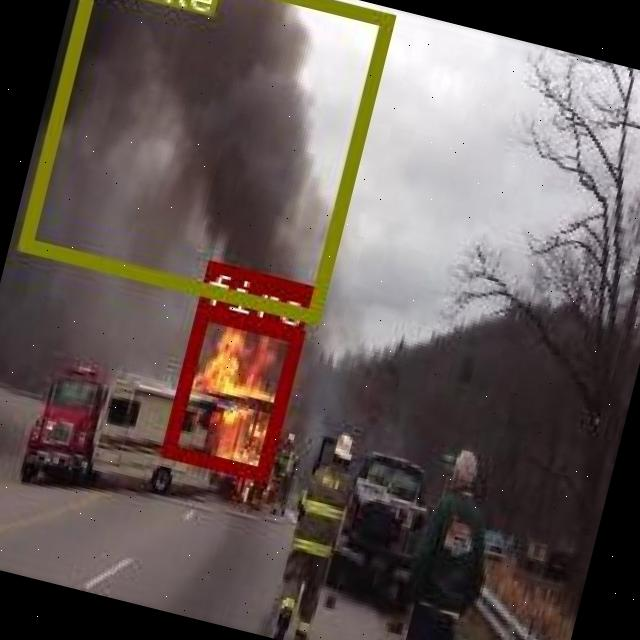fire: (160, 302, 304, 480)
smoke: (17, 0, 393, 322)
